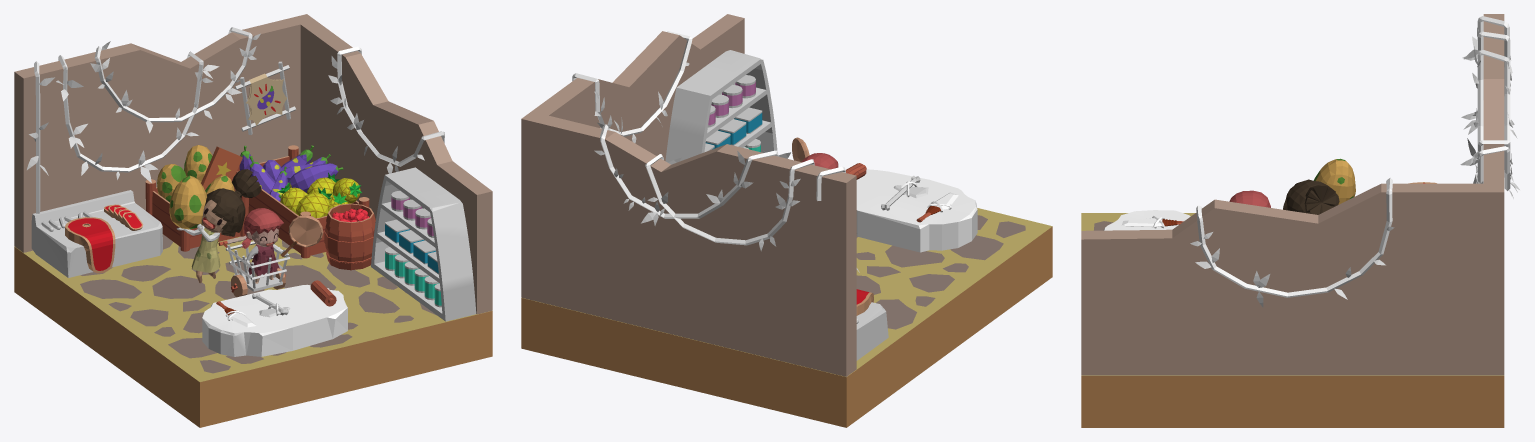
File: 0100_roundStoneFamily_Shopping.fbx
3 views of the same model, side by side, from view 1: azimuth 30°, elevation 25°; view 2: azimuth 150°, elevation 25°; view 3: azimuth 270°, elevation 25° (orthographic). The views are drawn at different scales.
Visible parts, largest first — view 1: Stage2, Stage1, Con_Shelf, Sst, Meat_Stand, Apple_Drum (×2), Mom_Head, B_Meat, Pineapple (×3), Mom_Egg, eggplantbox_R, Stem2 (+14 smaller); view 2: Stage2, Stage1, Sst, Con_Shelf, Stem2, Stem4, Meat_Stand, Stem1; view 3: Stage2, Stage1, Stem1, Stem4, Mom_Head, Mom_Egg, Sst, Stem2, Dt_Head.
Boxes of the visible parts, x1=… form: Stage2: x1=14, y1=14, x2=492, y2=314; Stage1: x1=14, y1=234, x2=492, y2=427; Con_Shelf: x1=371, y1=167, x2=476, y2=321; Sst: x1=202, y1=284, x2=347, y2=356; Meat_Stand: x1=31, y1=190, x2=162, y2=277; Apple_Drum (×2): x1=324, y1=203, x2=375, y2=270; Mom_Head: x1=201, y1=169, x2=261, y2=236; B_Meat: x1=65, y1=217, x2=115, y2=273; Pineapple (×3): x1=276, y1=178, x2=361, y2=218; Mom_Egg: x1=169, y1=175, x2=206, y2=229; eggplantbox_R: x1=236, y1=171, x2=369, y2=258; Stem2: x1=58, y1=51, x2=203, y2=172; Stage2: x1=521, y1=14, x2=856, y2=376; Stage1: x1=521, y1=208, x2=1052, y2=427; Sst: x1=856, y1=169, x2=977, y2=252; Con_Shelf: x1=665, y1=50, x2=777, y2=162; Stem2: x1=645, y1=154, x2=814, y2=245; Stem4: x1=600, y1=124, x2=778, y2=218; Meat_Stand: x1=856, y1=302, x2=888, y2=360; Stem1: x1=572, y1=31, x2=692, y2=136; Stage2: x1=1081, y1=14, x2=1504, y2=375; Stage1: x1=1081, y1=213, x2=1504, y2=427; Stem1: x1=1196, y1=178, x2=1392, y2=297; Stem4: x1=1477, y1=50, x2=1510, y2=190; Mom_Head: x1=1283, y1=179, x2=1339, y2=214; Mom_Egg: x1=1313, y1=158, x2=1355, y2=204; Sst: x1=1103, y1=210, x2=1190, y2=230; Stem2: x1=1478, y1=31, x2=1510, y2=183; Dt_Head: x1=1229, y1=190, x2=1270, y2=207.
Size of the model in its own units: 9.88 by 7.09 by 10.93.
